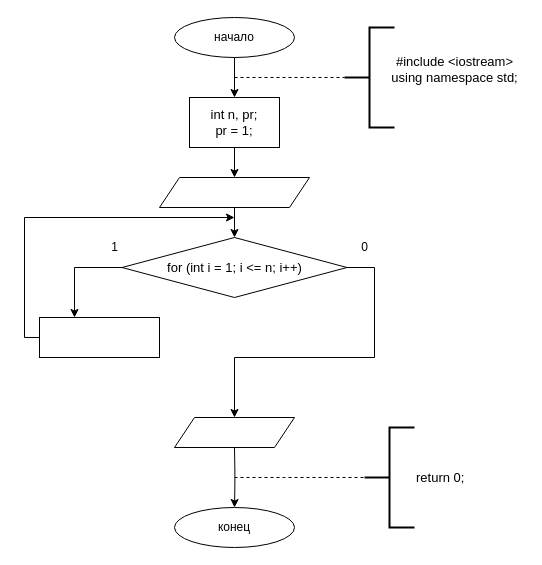
Image size: 542x565. Some labels were removed from this diagram. Each missing label, with the centre of its shape:
"cin >> n;" belongs at [234,192].
"cout << sum;" belongs at [234,432].
"pr = pr * i;" belongs at [99,337].
